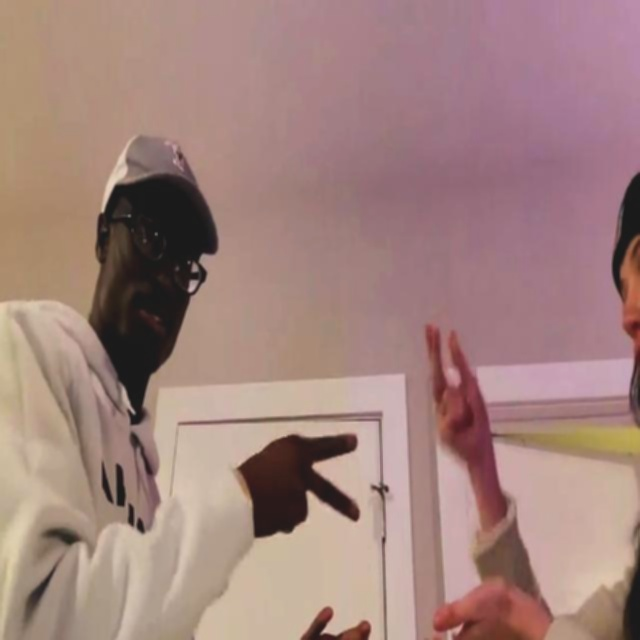Scissors: (242, 428, 360, 538), (423, 324, 488, 468)
